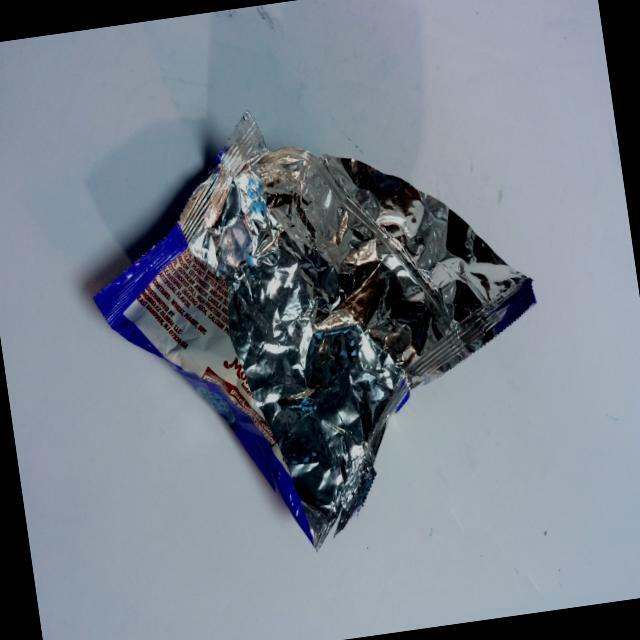plastic: (63, 66, 579, 598)
